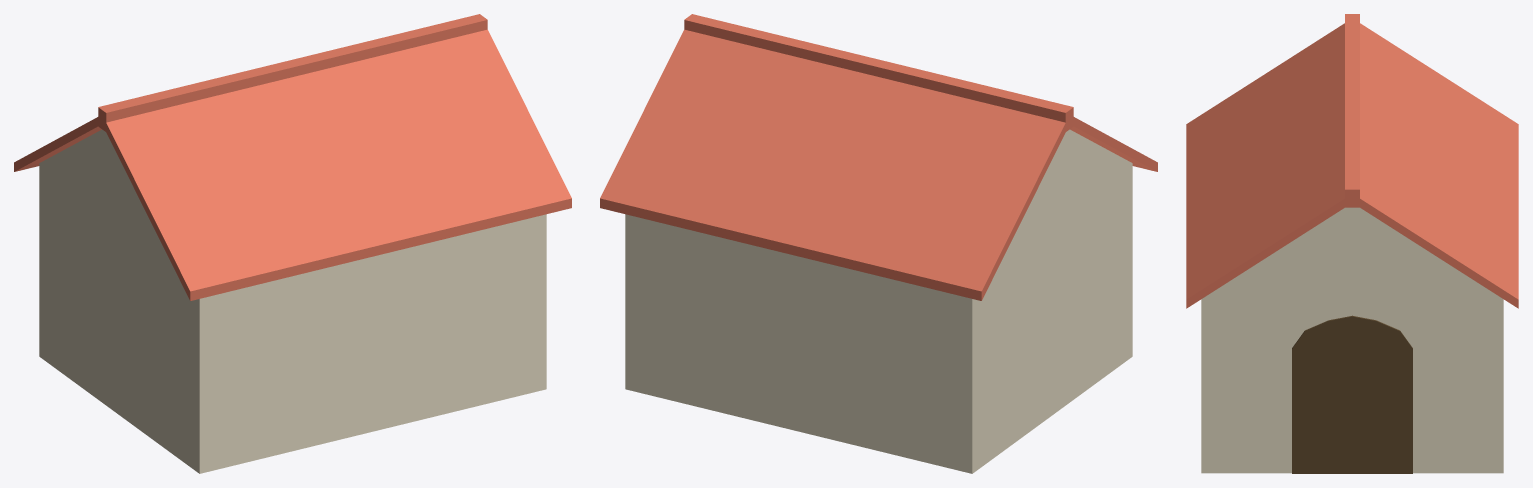
Rendered from House_On_Tree.fbx.
The picture shows the model from 3 angles, left to right: view 1: azimuth 30°, elevation 25°; view 2: azimuth 150°, elevation 25°; view 3: azimuth 270°, elevation 25°; orthographic projection. The views are drawn at different scales.
Parts seen in each view (by area): view 1: Wall, Roof; view 2: Wall, Roof; view 3: Roof, Wall, Door.
Part boxes in pixels (bbox=[...]): Wall: bbox=[39, 129, 546, 473]; Roof: bbox=[14, 14, 571, 300]; Wall: bbox=[625, 129, 1132, 473]; Roof: bbox=[600, 14, 1157, 300]; Roof: bbox=[1186, 14, 1518, 308]; Wall: bbox=[1201, 207, 1503, 473]; Door: bbox=[1292, 315, 1412, 473].
Bounding box in the file's own units: 138 × 107 × 110.
